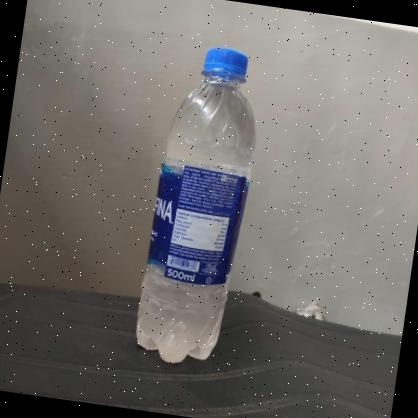bottle: (123, 40, 270, 378)
cap: (196, 45, 253, 92)
label: (144, 162, 252, 294)
